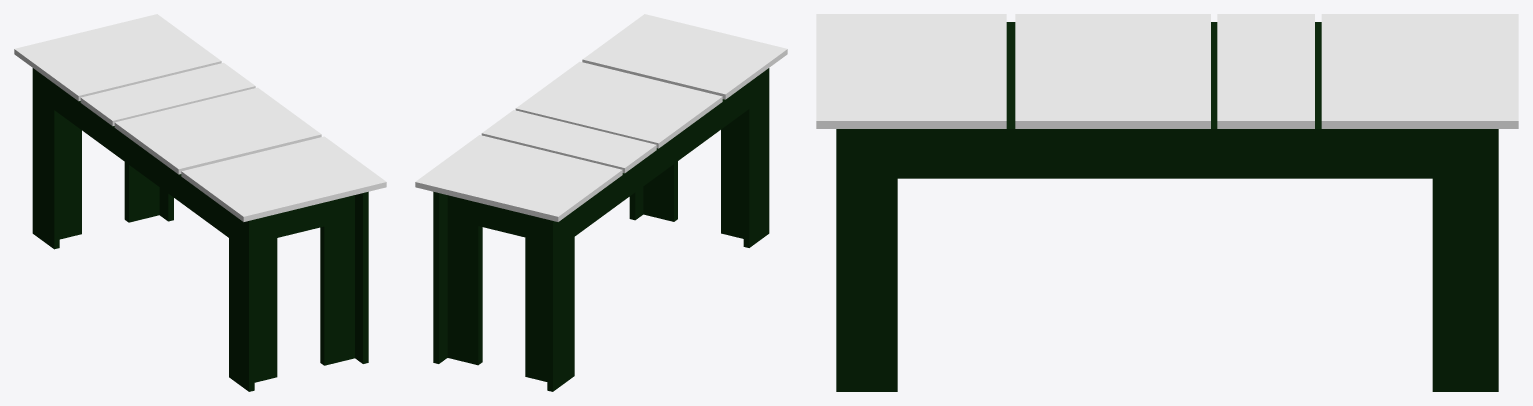
The model's file is SitzBank.fbx.
3 views of the same model, side by side, from view 1: azimuth 30°, elevation 25°; view 2: azimuth 150°, elevation 25°; view 3: azimuth 270°, elevation 25° (orthographic). The views are drawn at different scales.
Visible parts, largest first — view 1: Plane; view 2: Plane; view 3: Plane.
Part boxes in pixels (x1,y1,x2,y2): Plane: (14, 14, 386, 391); Plane: (415, 14, 787, 391); Plane: (816, 14, 1518, 391).
Bounding box in the file's own units: 84.39 × 103 × 234.
